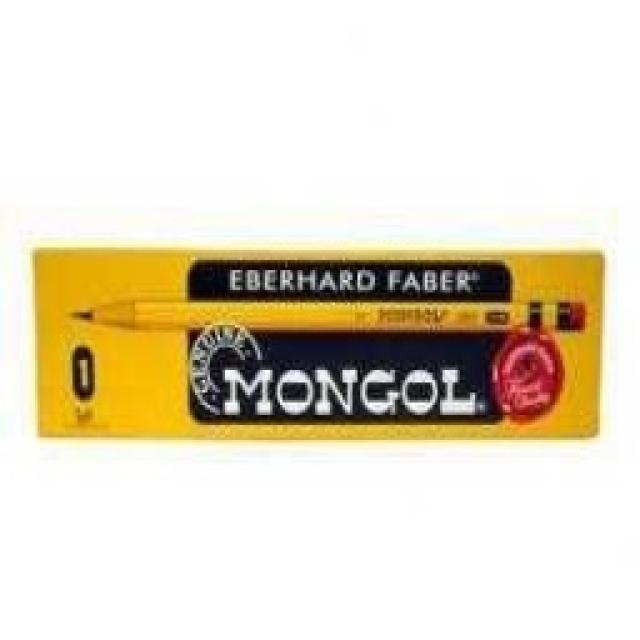pencil: (28, 240, 608, 442)
